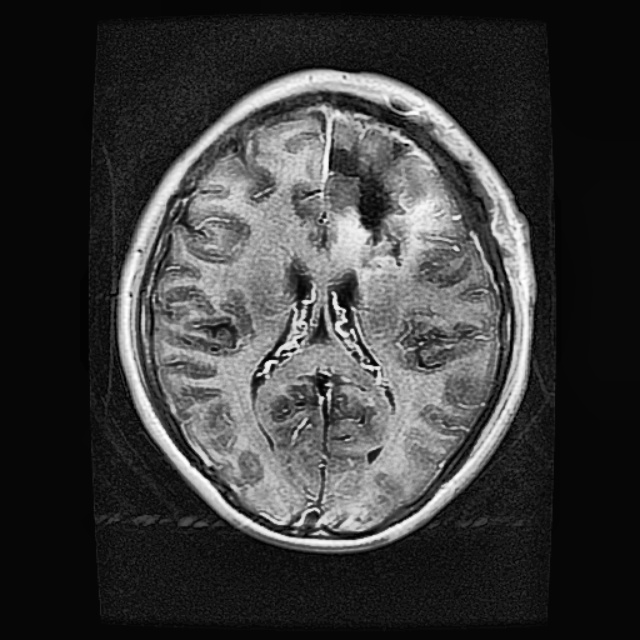Glioma: (325, 117, 420, 243)
